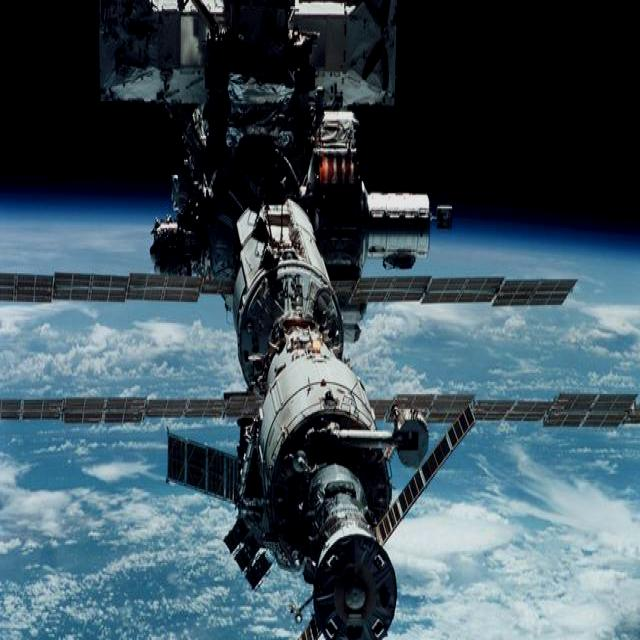satellite: (20, 48, 624, 635)
